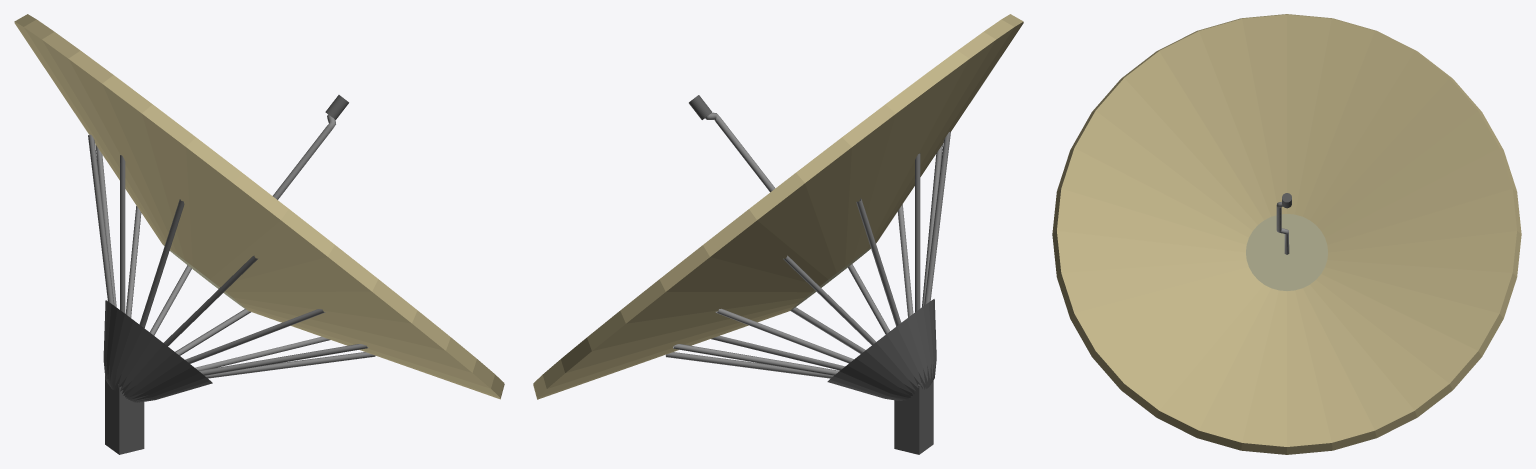
The model's file is Parabola.fbx.
3 renders of one model, left to right at view 1: azimuth 30°, elevation 25°; view 2: azimuth 150°, elevation 25°; view 3: azimuth 270°, elevation 25°, orthographic. The views are drawn at different scales.
Visible parts, largest first — view 1: Cone, Cone.001, Cube, NurbsPath.022, NurbsPath.020, NurbsPath.023, NurbsPath.003, NurbsPath.004, NurbsPath.019, NurbsPath.005, NurbsPath.024, NurbsPath.021 (+4 smaller); view 2: Cone, Cone.001, Cube, NurbsPath.019, NurbsPath.025, NurbsPath.018, NurbsPath.004, NurbsPath.002, NurbsPath.022, NurbsPath.005, NurbsPath.021, NurbsPath.024 (+4 smaller); view 3: Cone.
Part boxes in pixels (<box>): Cone: <box>14,14,504,399</box>; Cone.001: <box>103,300,212,402</box>; Cube: <box>105,377,144,454</box>; NurbsPath.022: <box>88,134,114,305</box>; NurbsPath.020: <box>199,344,368,375</box>; NurbsPath.023: <box>205,352,375,378</box>; NurbsPath.003: <box>185,309,325,363</box>; NurbsPath.004: <box>120,155,125,313</box>; NurbsPath.019: <box>139,199,184,328</box>; NurbsPath.005: <box>195,336,330,370</box>; NurbsPath.024: <box>164,255,257,346</box>; NurbsPath.021: <box>95,145,116,307</box>; Cone: <box>533,14,1023,399</box>; Cone.001: <box>827,299,936,400</box>; Cube: <box>894,380,933,454</box>; NurbsPath.019: <box>924,132,950,305</box>; NurbsPath.025: <box>673,344,839,375</box>; NurbsPath.018: <box>665,352,833,378</box>; NurbsPath.004: <box>915,153,920,311</box>; NurbsPath.002: <box>715,308,853,363</box>; NurbsPath.022: <box>856,198,901,326</box>; NurbsPath.005: <box>711,335,844,370</box>; NurbsPath.021: <box>783,255,875,344</box>; NurbsPath.024: <box>922,144,942,306</box>; Cone: <box>1052,14,1521,454</box>.
Bounding box in the file's own units: 145 × 147 × 202.
